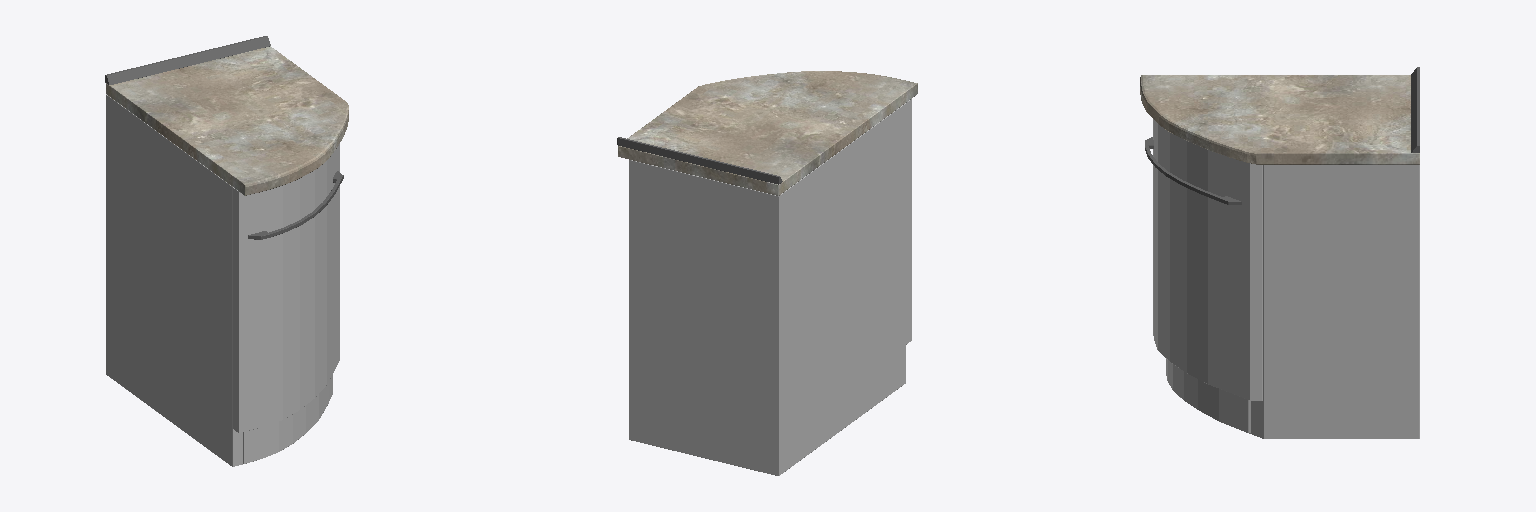
3 renders of one model, left to right at view 1: azimuth 30°, elevation 25°; view 2: azimuth 150°, elevation 25°; view 3: azimuth 270°, elevation 25°, orthographic.
Bounding box in the file's own units: 0.44 × 0.78 × 0.66.
Materials: 3 (2 with a texture image).